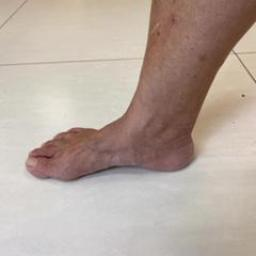Medial View -Right Foot-: (10, 74, 216, 202)
